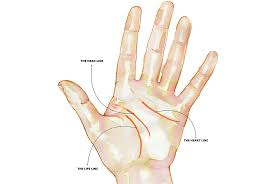palm: (103, 85, 178, 161)
